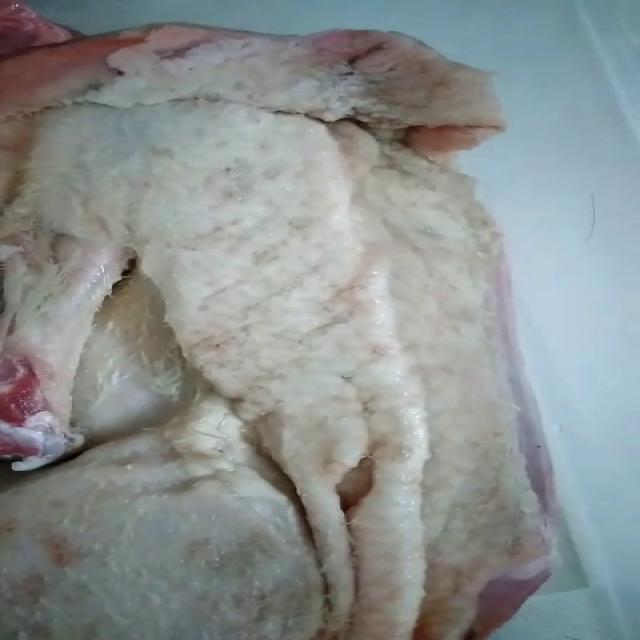chicken: (0, 10, 560, 638)
